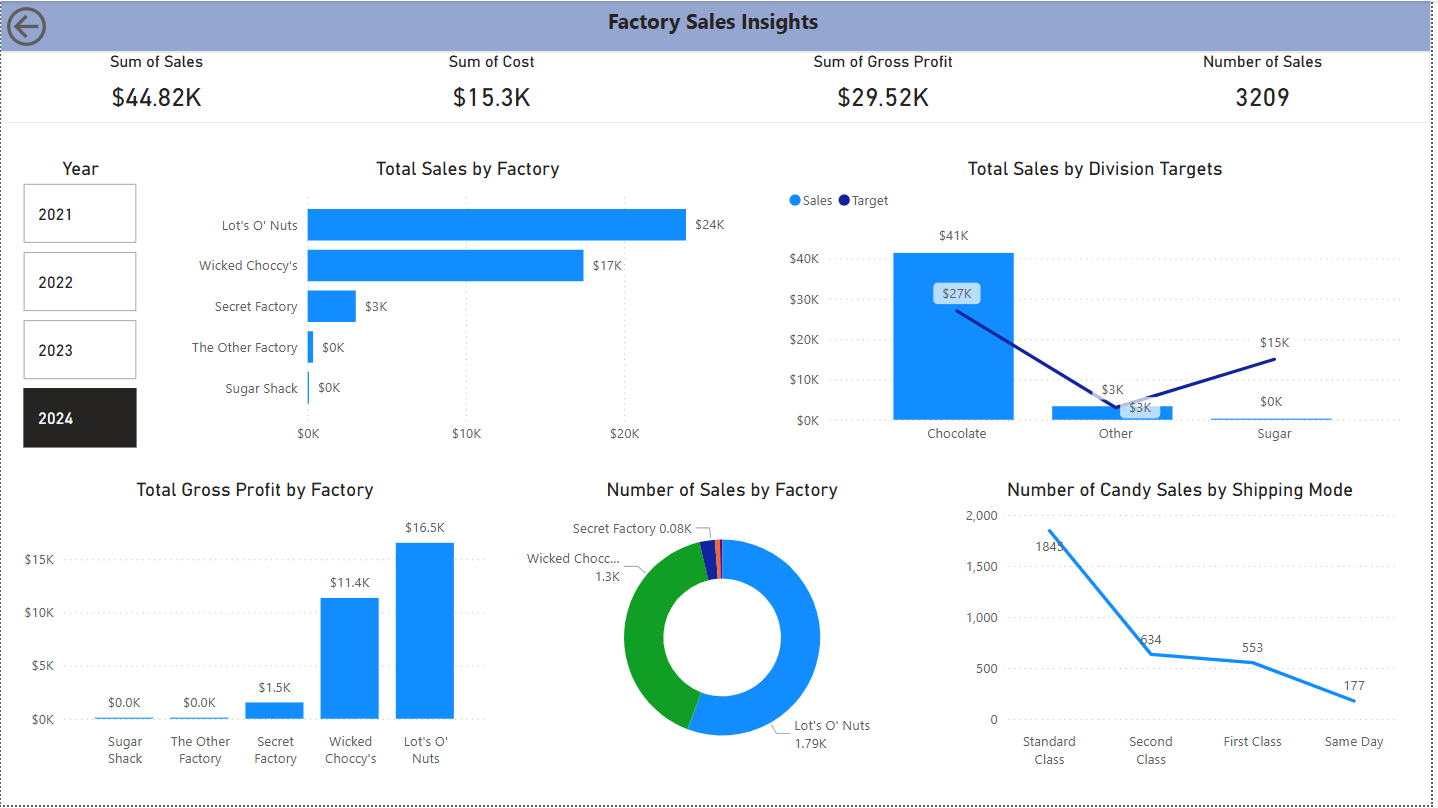

What the dashboard file says about the page in this screenshot:
{"tool":"powerbi","page":{"name":"Factory Sales Insight ","canvas":[1280,720],"ordinal":1},"visuals":[{"type":"clusteredBarChart","title":"Total Sales by Factory","fields":{"Category":["candy_factories.factory"],"Y":["Sum(candy_sales.sales)"]},"box":[158.1,139.7,520.7,265.3],"z":0},{"type":"clusteredColumnChart","title":"Total Gross Profit by Factory","fields":{"Y":["Sum(candy_sales.gross_profit)"],"Category":["candy_factories.factory"]},"box":[15.1,427.2,424.1,266.6],"z":1000},{"type":"donutChart","title":"Number of Sales by Factory","fields":{"Y":["CountNonNull(candy_sales.sales)"],"Category":["candy_factories.factory"]},"box":[465,427.2,362,266.6],"z":2000},{"type":"advancedSlicerVisual","title":"Year","fields":{"Values":["date_details.year"]},"box":[15.5,139.6,111.7,265.3],"z":3000},{"type":"textbox","box":[0,0,1280,45.4],"z":4000},{"type":"group","id":"g1","title":"Group 1","box":[0,45.4,1280,63.7],"z":5000},{"type":"card","title":"Sum of Sales","fields":{"Values":["Sum(candy_sales.sales)"]},"box":[0,45.4,278.4,63.7],"z":6000,"group":"g1"},{"type":"lineClusteredColumnComboChart","title":"Total Sales by Division Targets","fields":{"Category":["candy_targets.division"],"Y2":["Sum(candy_targets.target)"],"Y":["Sum(candy_sales.sales)"]},"box":[700,139.7,558.9,265.3],"z":6000},{"type":"card","title":"Sum of Gross Profit","fields":{"Values":["Sum(candy_sales.gross_profit)"]},"box":[600.1,45.4,379.9,63.7],"z":7000,"group":"g1"},{"type":"lineChart","title":"Number of Candy Sales by Shipping Mode","fields":{"Y":["CountNonNull(candy_sales.sales)"],"Category":["candy_sales.ship_mode"]},"box":[852.5,427.2,406.6,266.9],"z":7000},{"type":"actionButton","box":[0,0,55.5,45.7],"z":8000},{"type":"card","title":"Sum of Cost","fields":{"Values":["Sum(candy_sales.cost)"]},"box":[278.4,45.4,321.6,63.7],"z":8000,"group":"g1"},{"type":"card","title":"Number of Sales","fields":{"Values":["CountNonNull(candy_sales.sales)"]},"box":[980,45.4,300,63.7],"z":9000,"group":"g1"}]}

Visuals, with their boxes in screenshot pixels (x1, y1, x2, y2), scaled from the page's 1280x720 canvas onto the 1438x808 screenshot:
"Total Sales by Factory" clusteredBarChart: pyautogui.locateOnScreen(178, 157, 763, 454)
"Total Gross Profit by Factory" clusteredColumnChart: pyautogui.locateOnScreen(17, 479, 493, 779)
"Number of Sales by Factory" donutChart: pyautogui.locateOnScreen(522, 479, 929, 779)
"Year" advancedSlicerVisual: pyautogui.locateOnScreen(17, 157, 143, 454)
textbox: pyautogui.locateOnScreen(0, 0, 1437, 51)
"Group 1" group: pyautogui.locateOnScreen(0, 51, 1437, 122)
"Sum of Sales" card: pyautogui.locateOnScreen(0, 51, 313, 122)
"Total Sales by Division Targets" lineClusteredColumnComboChart: pyautogui.locateOnScreen(786, 157, 1414, 454)
"Sum of Gross Profit" card: pyautogui.locateOnScreen(674, 51, 1101, 122)
"Number of Candy Sales by Shipping Mode" lineChart: pyautogui.locateOnScreen(958, 479, 1415, 779)
actionButton: pyautogui.locateOnScreen(0, 0, 62, 51)
"Sum of Cost" card: pyautogui.locateOnScreen(313, 51, 674, 122)
"Number of Sales" card: pyautogui.locateOnScreen(1101, 51, 1437, 122)
